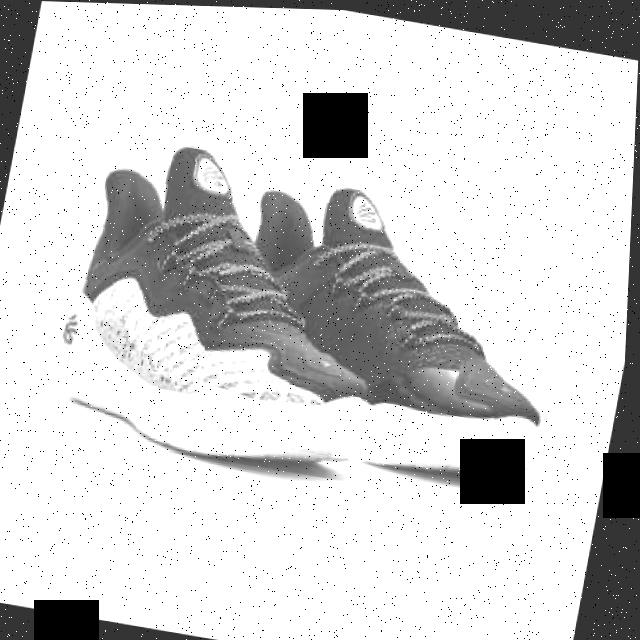shoe: (25, 125, 422, 483), (191, 166, 592, 490)
